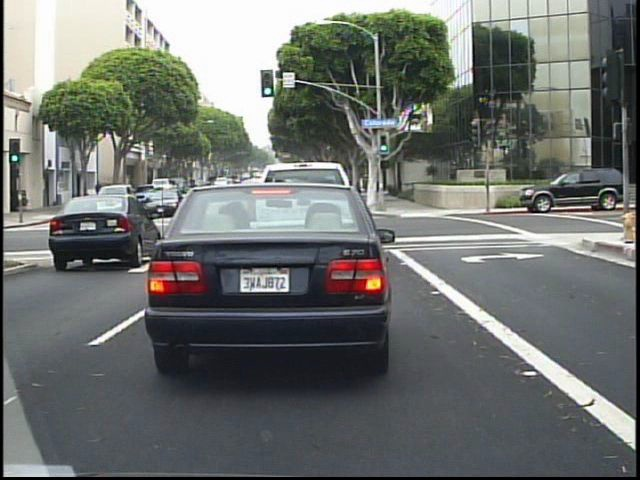person: (91, 176, 107, 209)
